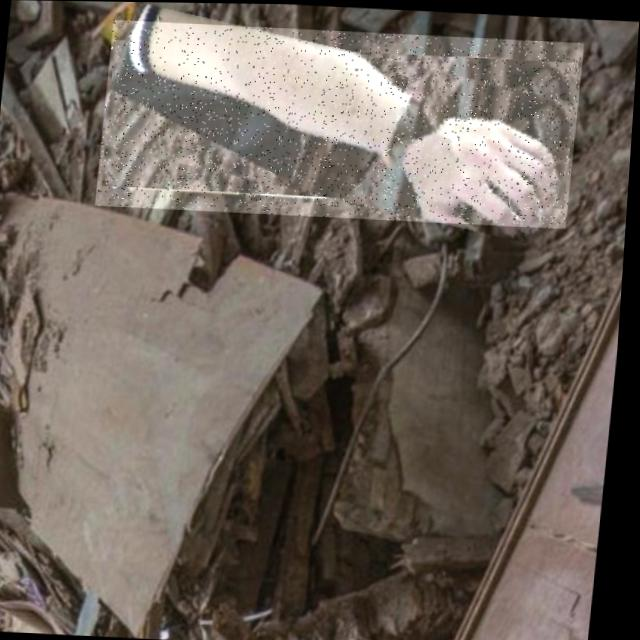Person in Rubble: (97, 18, 585, 226)
